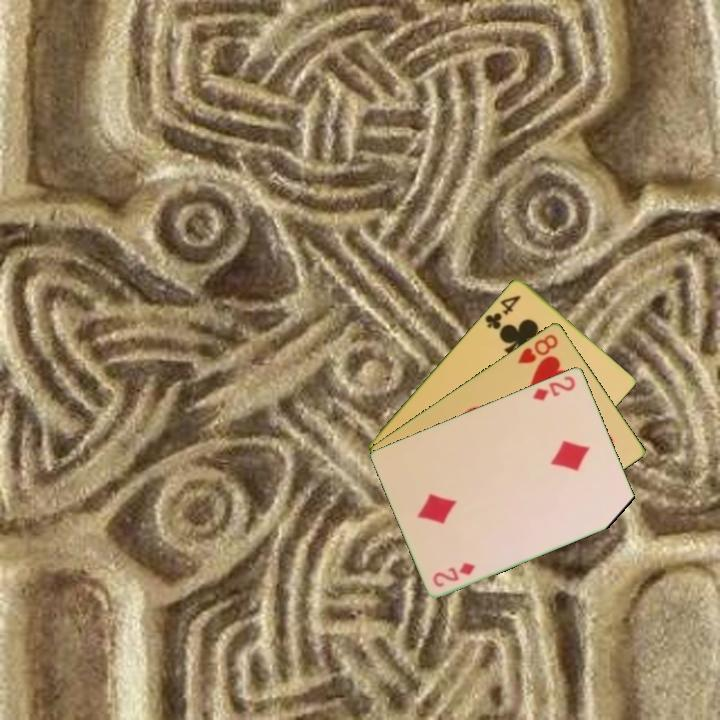2d: (529, 372, 578, 403), (429, 559, 478, 590)
4c: (481, 291, 523, 332)
8h: (514, 330, 561, 366)
